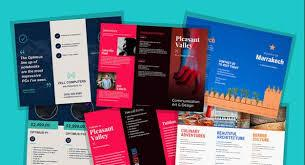paper: (15, 15, 292, 165)
